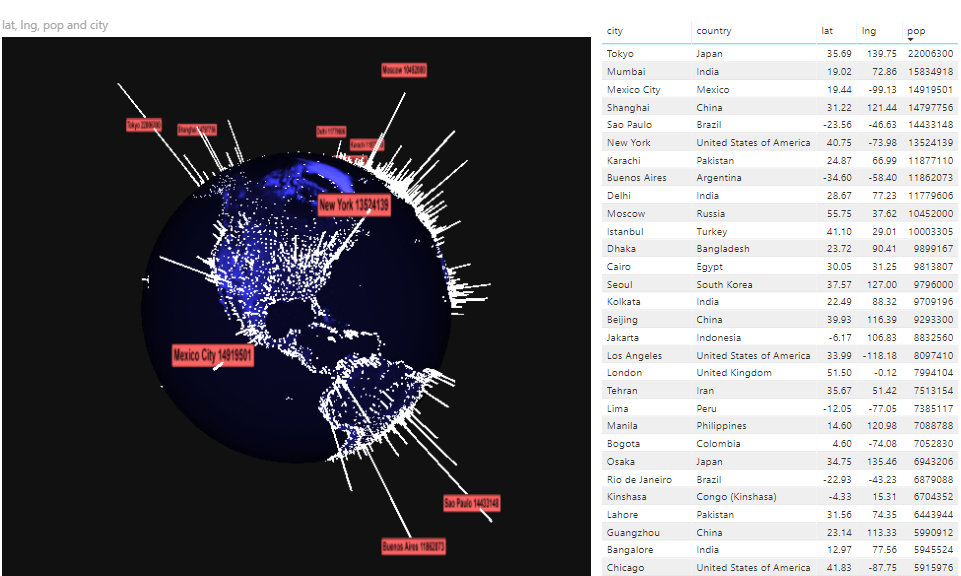

This screenshot's page, from the dashboard's own definition file:
{"tool":"powerbi","page":{"name":"Page 1","canvas":[960,720],"ordinal":0},"visuals":[{"type":"tableEx","fields":{"Values":["simplelatlong.city","simplelatlong.country","simplelatlong.lat","simplelatlong.lng","Sum(simplelatlong.pop)"]},"box":[472,0,488,720],"z":2},{"type":"threejsE0E480FFE18F46FE90AD2FA3A0D80C5F","fields":{"latitude":["simplelatlong.lat"],"longitude":["simplelatlong.lng"],"value":["simplelatlong.pop"],"name":["simplelatlong.city"]},"box":[16,144,448,448],"z":2}]}

Visuals, with their boxes on the page's 960x720 design canvas (x1, y1, x2, y2). These are canvas units, not pixel positions in the 961x576 screenshot, which may show the page scaled, cropped or inside an application window:
tableEx - simplelatlong.city x simplelatlong.country: [left=472, top=0, right=960, bottom=720]
threejsE0E480FFE18F46FE90AD2FA3A0D80C5F - simplelatlong.lat x simplelatlong.lng: [left=16, top=144, right=464, bottom=592]
